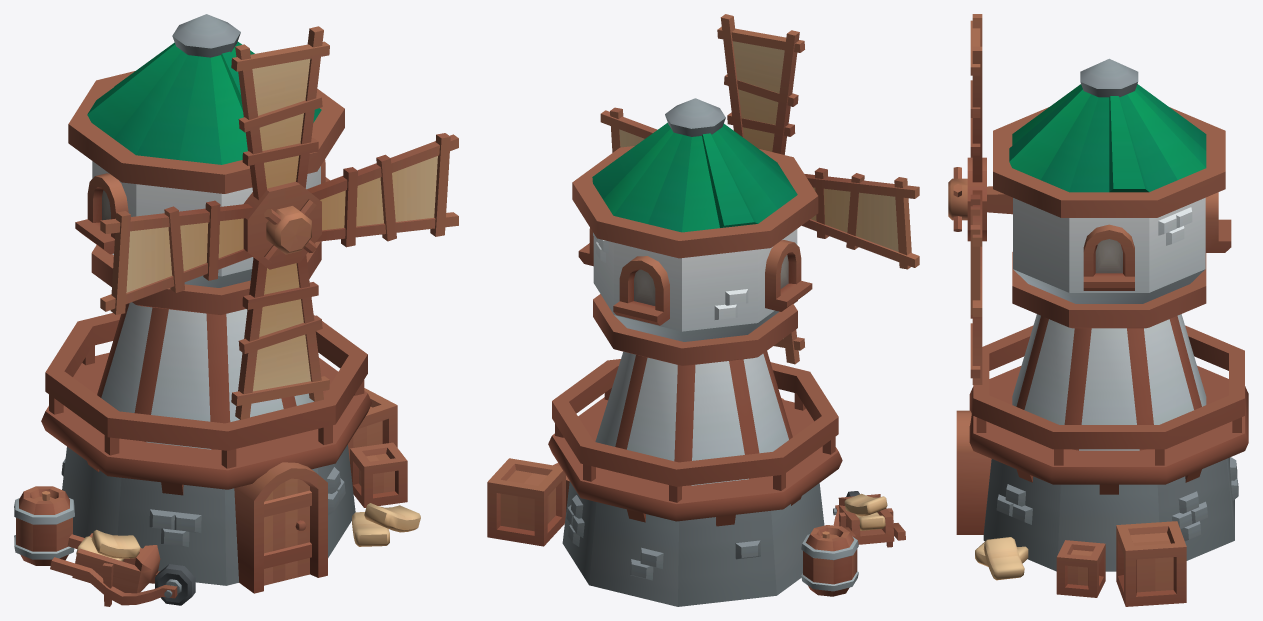
File: building_windmill_green.glb
The picture shows the model from 3 angles, left to right: view 1: azimuth 30°, elevation 25°; view 2: azimuth 150°, elevation 25°; view 3: azimuth 270°, elevation 25°; orthographic projection. The views are drawn at different scales.
Visible parts, largest first — view 1: building_windmill_green, building_windmill_top_fan_green, building_windmill_top_green; view 2: building_windmill_green, building_windmill_top_green, building_windmill_top_fan_green; view 3: building_windmill_green, building_windmill_top_green, building_windmill_top_fan_green.
Boxes of the visible parts, x1,y1,x2,y2 form: building_windmill_green: (14,302,420,606); building_windmill_top_fan_green: (100,26,458,419); building_windmill_top_green: (68,14,344,314); building_windmill_green: (487,351,905,606); building_windmill_top_green: (572,98,818,365); building_windmill_top_fan_green: (600,14,919,364); building_windmill_green: (956,314,1248,606); building_windmill_top_green: (987,58,1231,328); building_windmill_top_fan_green: (948,14,986,384).
Size of the model in its own units: 1.13 by 1.46 by 0.8165.
Materials: 1 (1 with a texture image).
